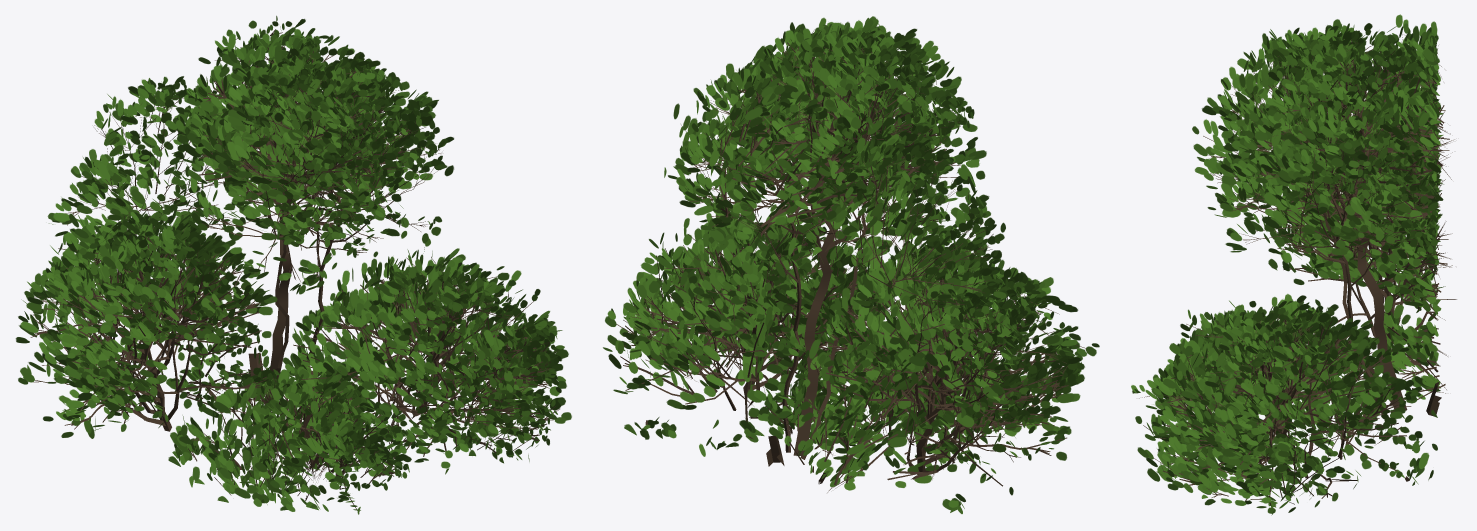
The picture shows the model from 3 angles, left to right: view 1: azimuth 30°, elevation 25°; view 2: azimuth 150°, elevation 25°; view 3: azimuth 270°, elevation 25°; orthographic projection. The views are drawn at different scales.
Visible parts, largest first — view 1: oak 01.001_trunk_Mat.001_0.229; view 2: oak 01.001_trunk_Mat.001_0.229; view 3: oak 01.001_trunk_Mat.001_0.229.
Part boxes in pixels (x1=…): oak 01.001_trunk_Mat.001_0.229: x1=15, y1=15, x2=571, y2=514; oak 01.001_trunk_Mat.001_0.229: x1=603, y1=16, x2=1099, y2=513; oak 01.001_trunk_Mat.001_0.229: x1=1131, y1=14, x2=1456, y2=515.
Size of the model in its own units: 5.92 by 4.87 by 3.66.
2 materials, 1 textured.
